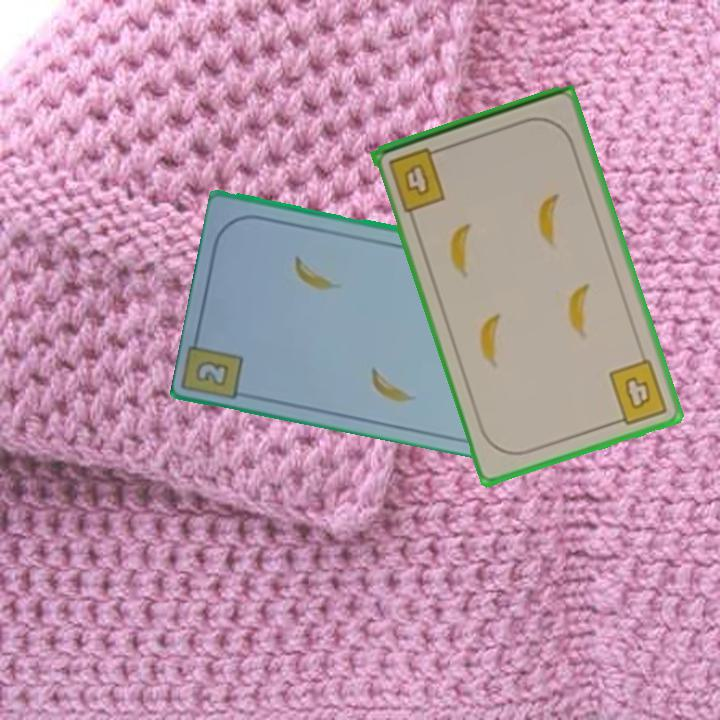2b: (191, 356, 233, 389)
4b: (605, 356, 671, 429), (384, 143, 449, 215)
